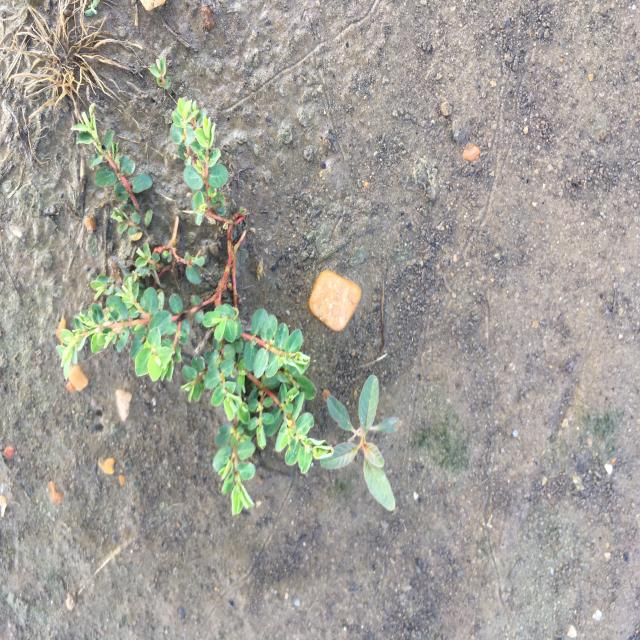SpottedSpurge: (53, 54, 336, 519)
Waterhemp: (317, 371, 405, 514)
